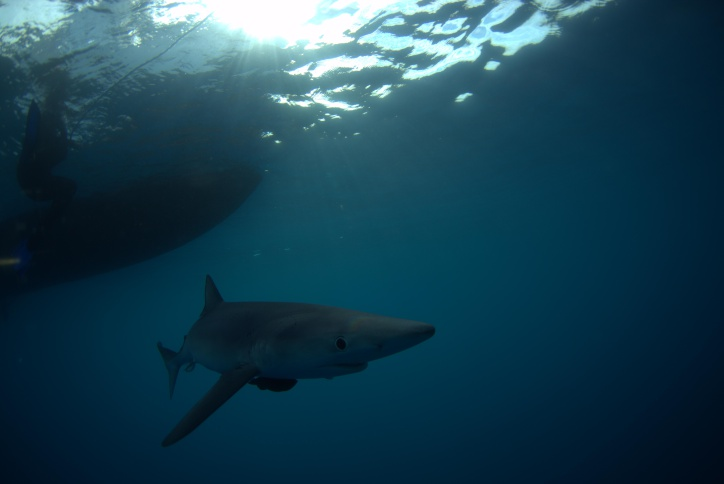Azul: (278, 213, 724, 472), (113, 244, 505, 453)
